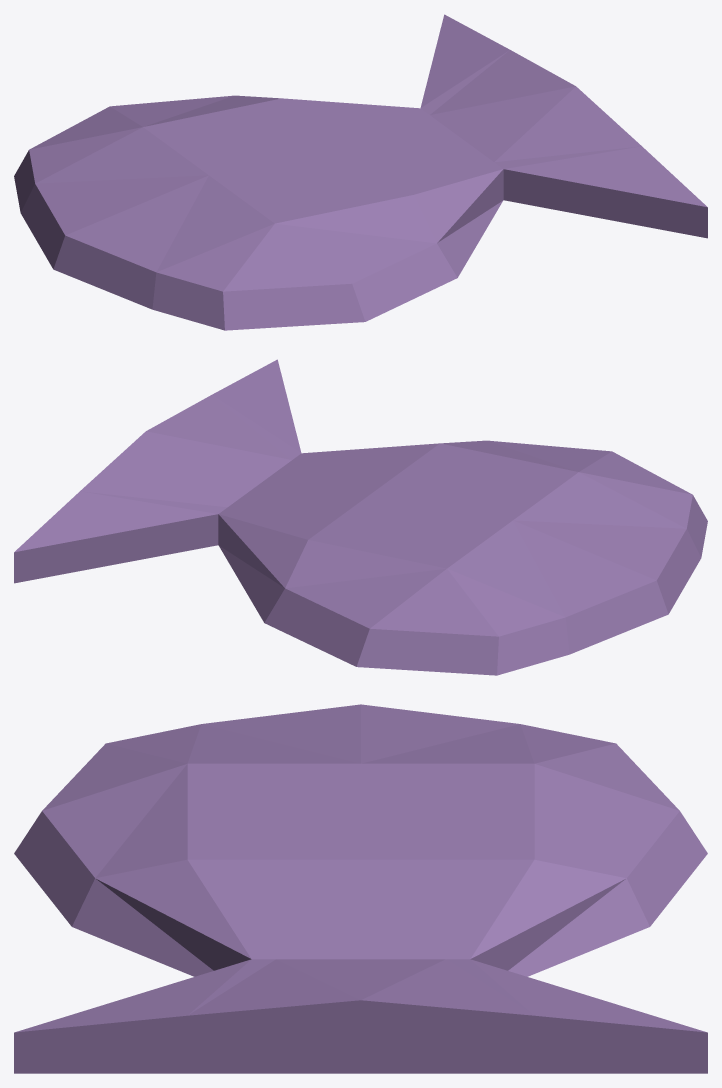
The model's file is BeachShell-sizing.glb.
3 renders of one model, top to bottom at view 1: azimuth 30°, elevation 25°; view 2: azimuth 150°, elevation 25°; view 3: azimuth 270°, elevation 25°, orthographic. The views are drawn at different scales.
Parts seen in each view (by area): view 1: |pPlane1_lambert2; view 2: |pPlane1_lambert2; view 3: |pPlane1_lambert2.
Boxes of the visible parts, left/top/right/bottom form: |pPlane1_lambert2: left=14, top=14, right=707, bottom=330; |pPlane1_lambert2: left=14, top=359, right=707, bottom=675; |pPlane1_lambert2: left=14, top=704, right=707, bottom=1073.
Bounding box in the file's own units: 1.14 × 0.1176 × 1.
